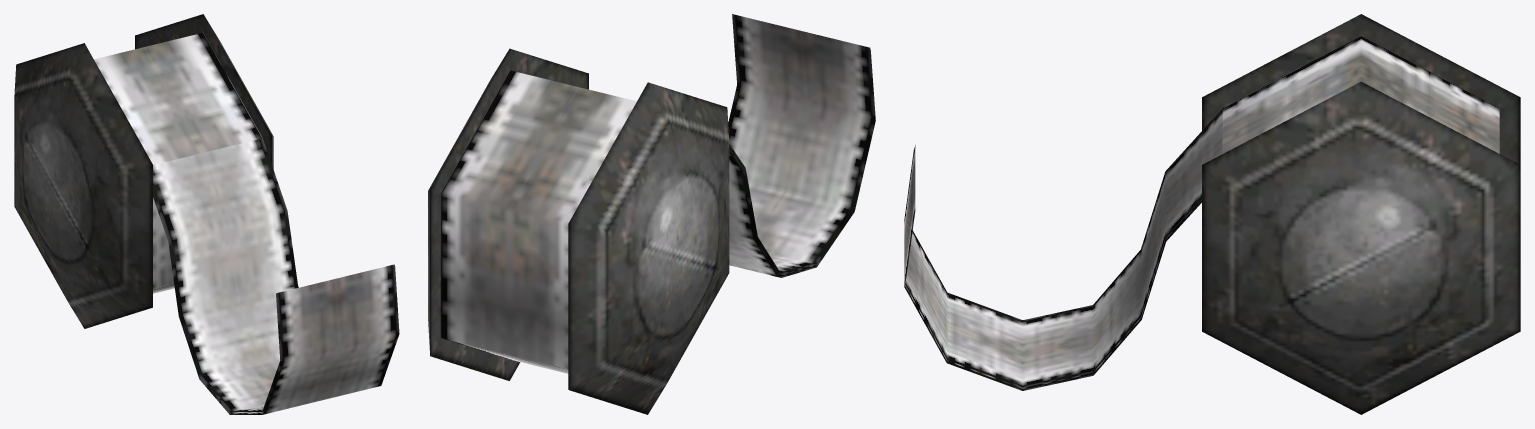
Rendered from eqp_comp_trim.fbx.
3 views of the same model, side by side, from view 1: azimuth 30°, elevation 25°; view 2: azimuth 150°, elevation 25°; view 3: azimuth 270°, elevation 25° (orthographic). The views are drawn at different scales.
Visible parts, largest first — view 1: mesh_node; view 2: mesh_node; view 3: mesh_node.
Boxes of the visible parts, x1,y1,x2,y2 form: mesh_node: [14, 14, 399, 414]; mesh_node: [428, 14, 875, 414]; mesh_node: [904, 14, 1520, 414].
Bounding box in the file's own units: 0.0731 × 0.115 × 0.1926.
Materials: 1 (1 with a texture image).
